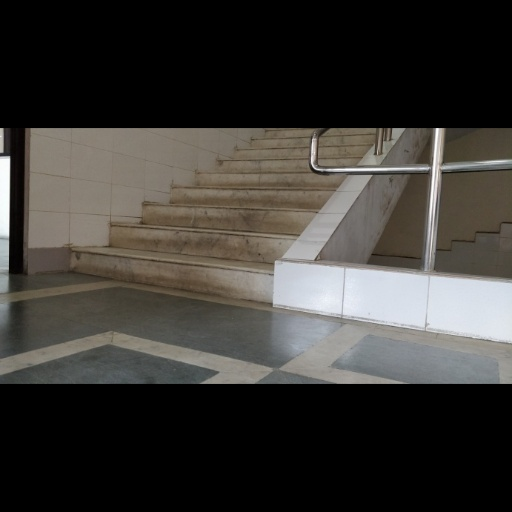Stairs: (71, 130, 343, 302)
